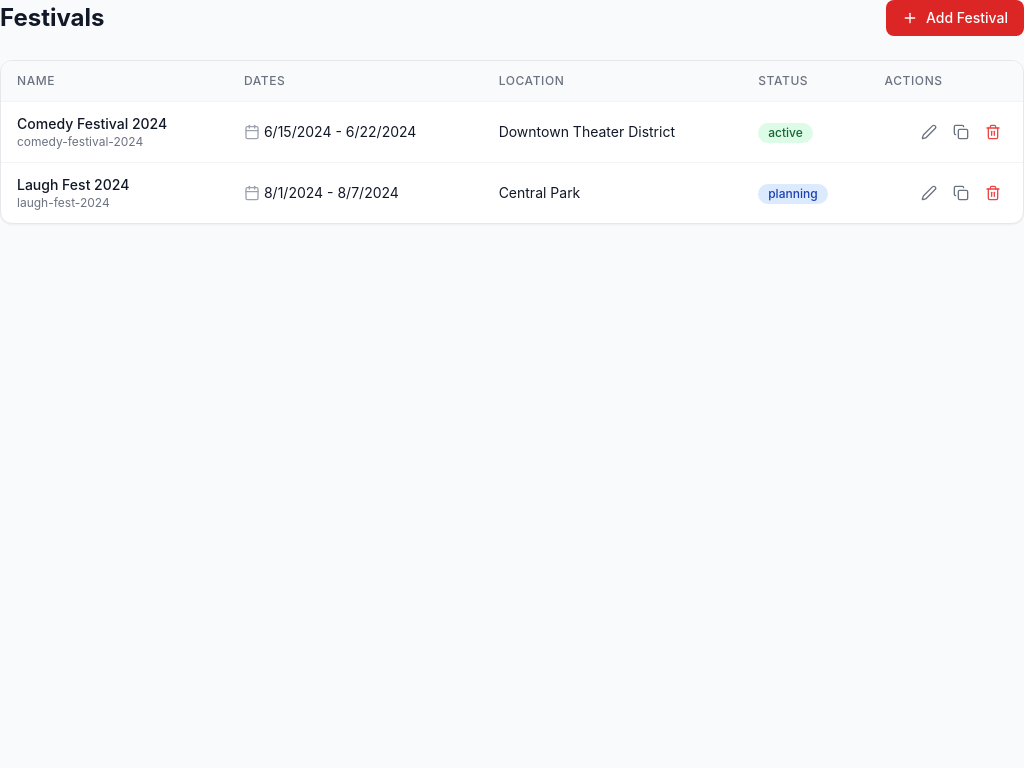
Festivals › edit festival modal › opens modal with festival data when clicking Edit
Expected: the text "Comedy Festival 2024" is shown, [17,115,167,132]
What coordinates should you click on to do the following:
click the button titled "Edit" in the row of "Comedy Festival 2024"
I would click on:
 (929, 132)
Its box is [915,118,943,146].
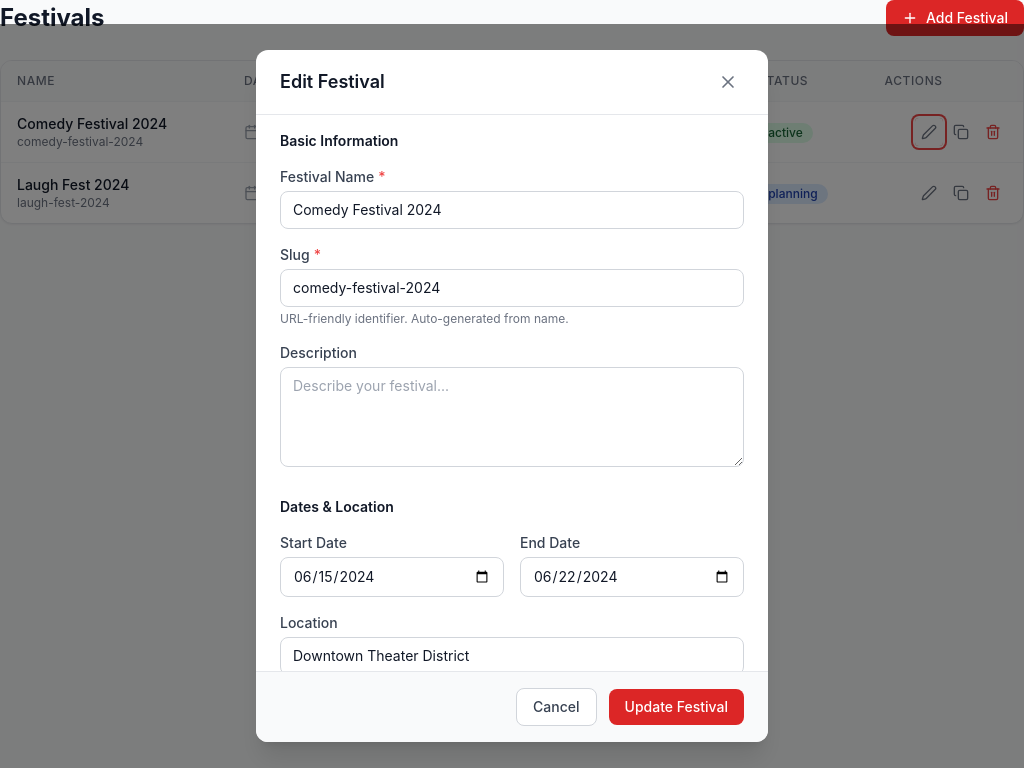
Now the heading "Edit Festival" is shown, box [280,68,385,96]
